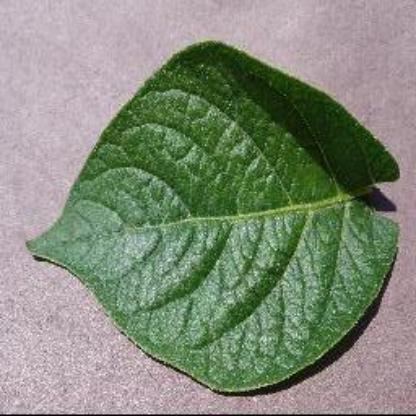Healthy-plant: (26, 36, 406, 394)
